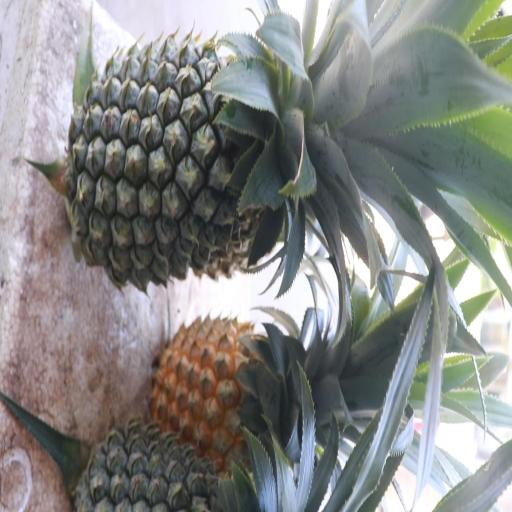Pineapple - v8 v1: (156, 298, 322, 460)
